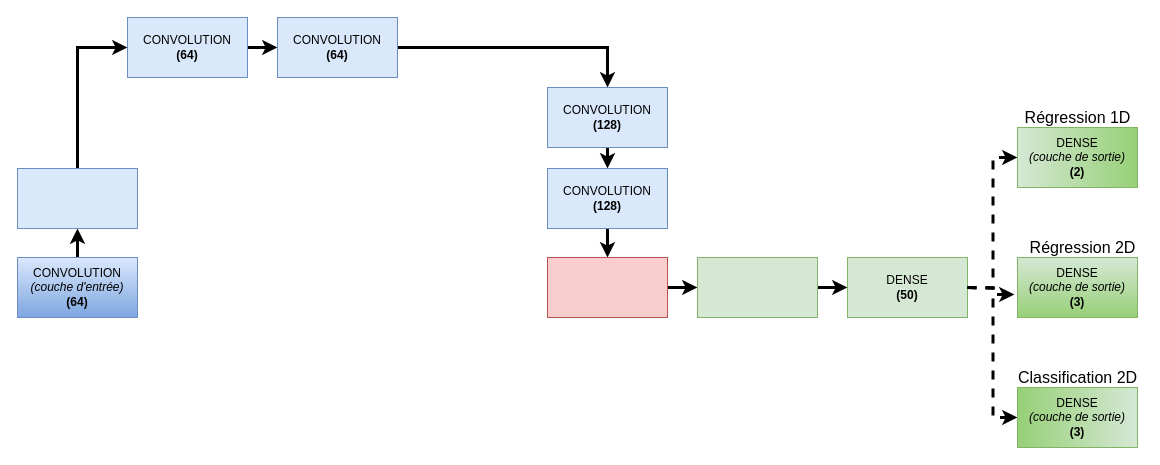
This 1160x465 diagram has some shape labels left out. The centre of each missing label's shape, as x and y in pixels:
"CONVOLUTION (32)" belongs at point 77,198.
"DENSE (500)" belongs at point 757,287.
"FLATTEN" belongs at point 607,287.
